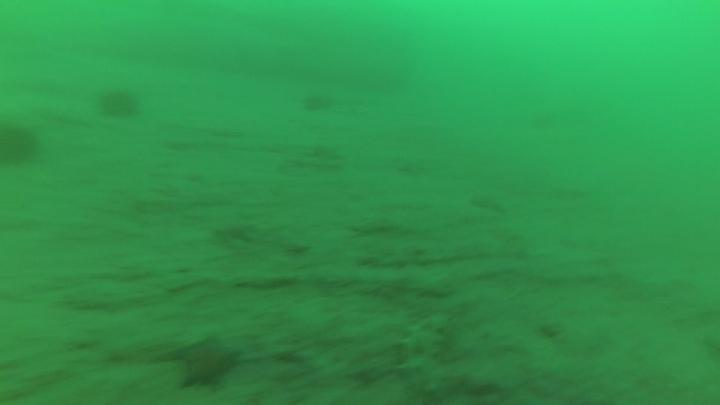echinus: (1, 122, 49, 169), (99, 87, 145, 124)
holothurian: (393, 304, 459, 404)
starfish: (175, 326, 248, 393)
